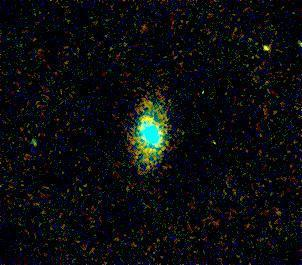star: (250, 33, 280, 63)
